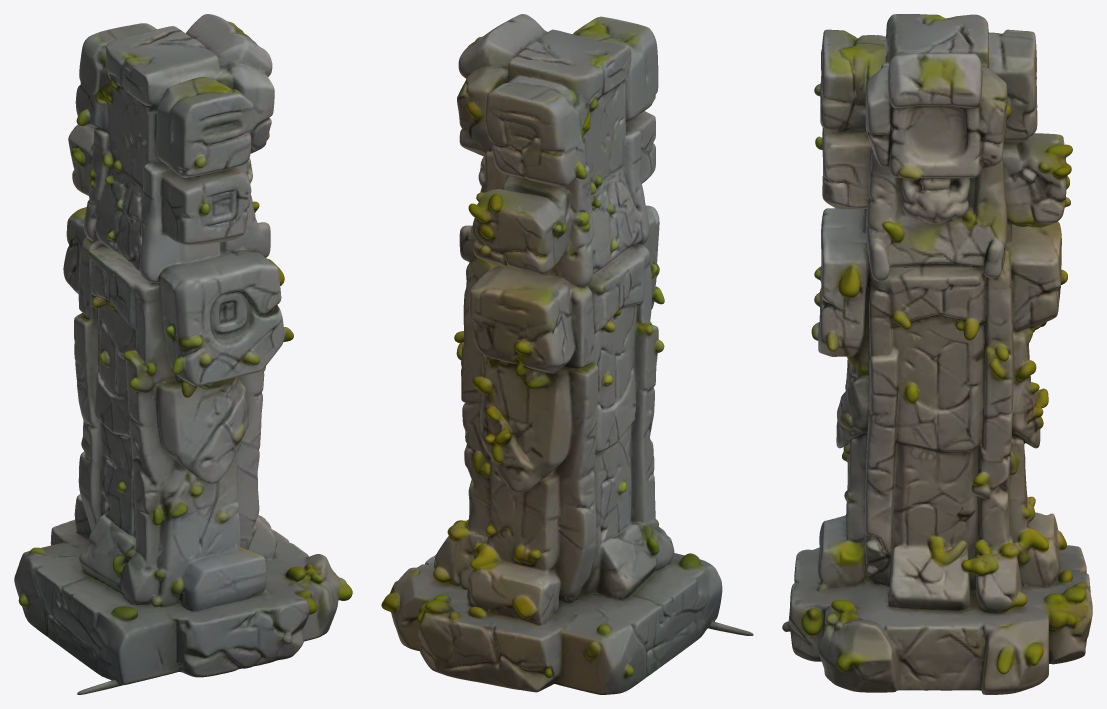
Rendered from ruin_statue.glb.
3 renders of one model, left to right at view 1: azimuth 30°, elevation 25°; view 2: azimuth 150°, elevation 25°; view 3: azimuth 270°, elevation 25°, orthographic. The views are drawn at different scales.
Visible parts, largest first — view 1: tripo_node_f9156ad5-2743-4f47-9f0e-21fe47c7e784; view 2: tripo_node_f9156ad5-2743-4f47-9f0e-21fe47c7e784; view 3: tripo_node_f9156ad5-2743-4f47-9f0e-21fe47c7e784.
Boxes of the visible parts, box(x1,y1,x2,y2) form: tripo_node_f9156ad5-2743-4f47-9f0e-21fe47c7e784: box(14, 14, 352, 694); tripo_node_f9156ad5-2743-4f47-9f0e-21fe47c7e784: box(381, 14, 753, 694); tripo_node_f9156ad5-2743-4f47-9f0e-21fe47c7e784: box(782, 14, 1092, 694).
Size of the model in its own units: 0.4931 by 1 by 0.4596.
Materials: 1 (1 with a texture image).
